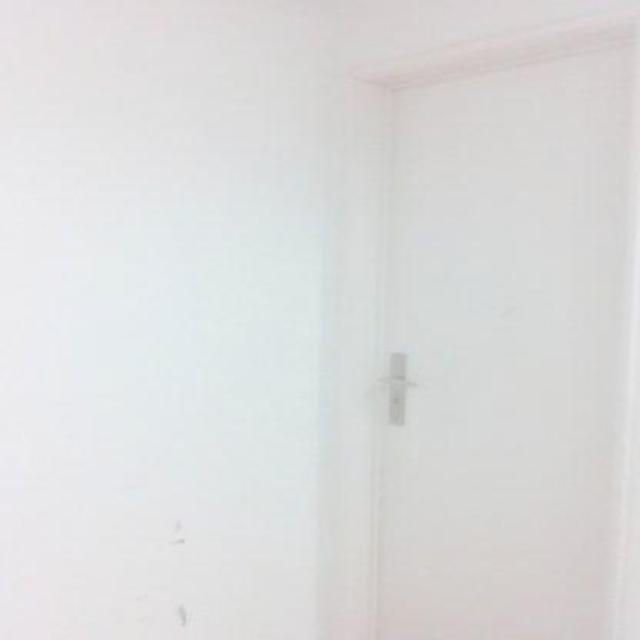door: (338, 0, 638, 638)
